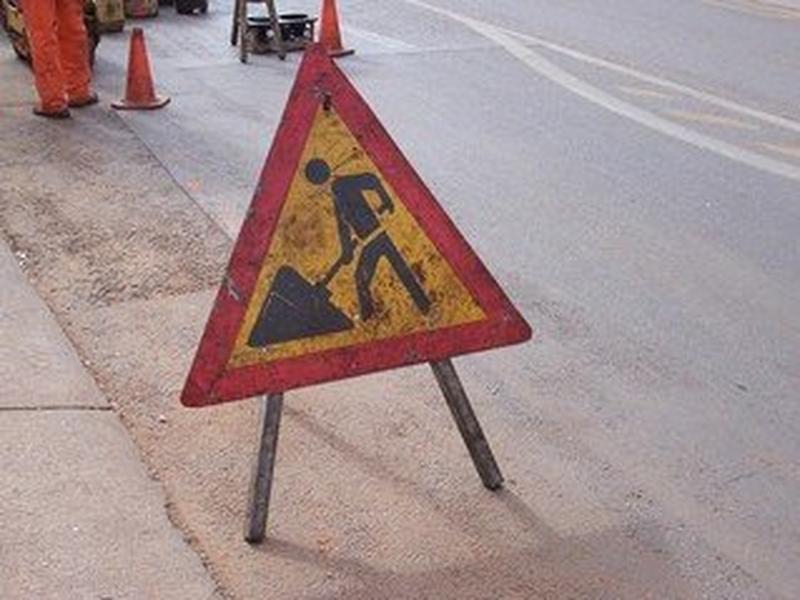Cone: (111, 28, 174, 110)
